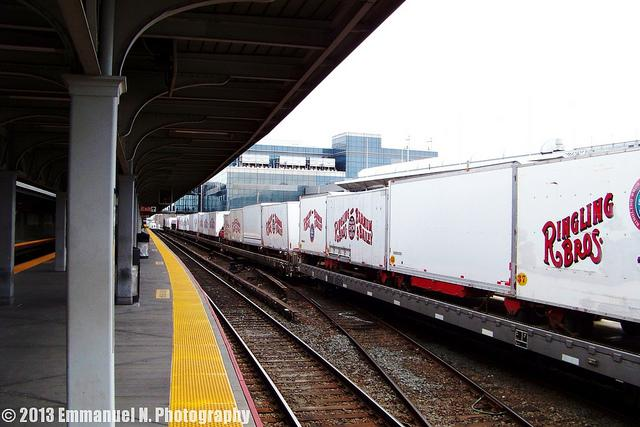Train: (152, 152, 640, 390)
